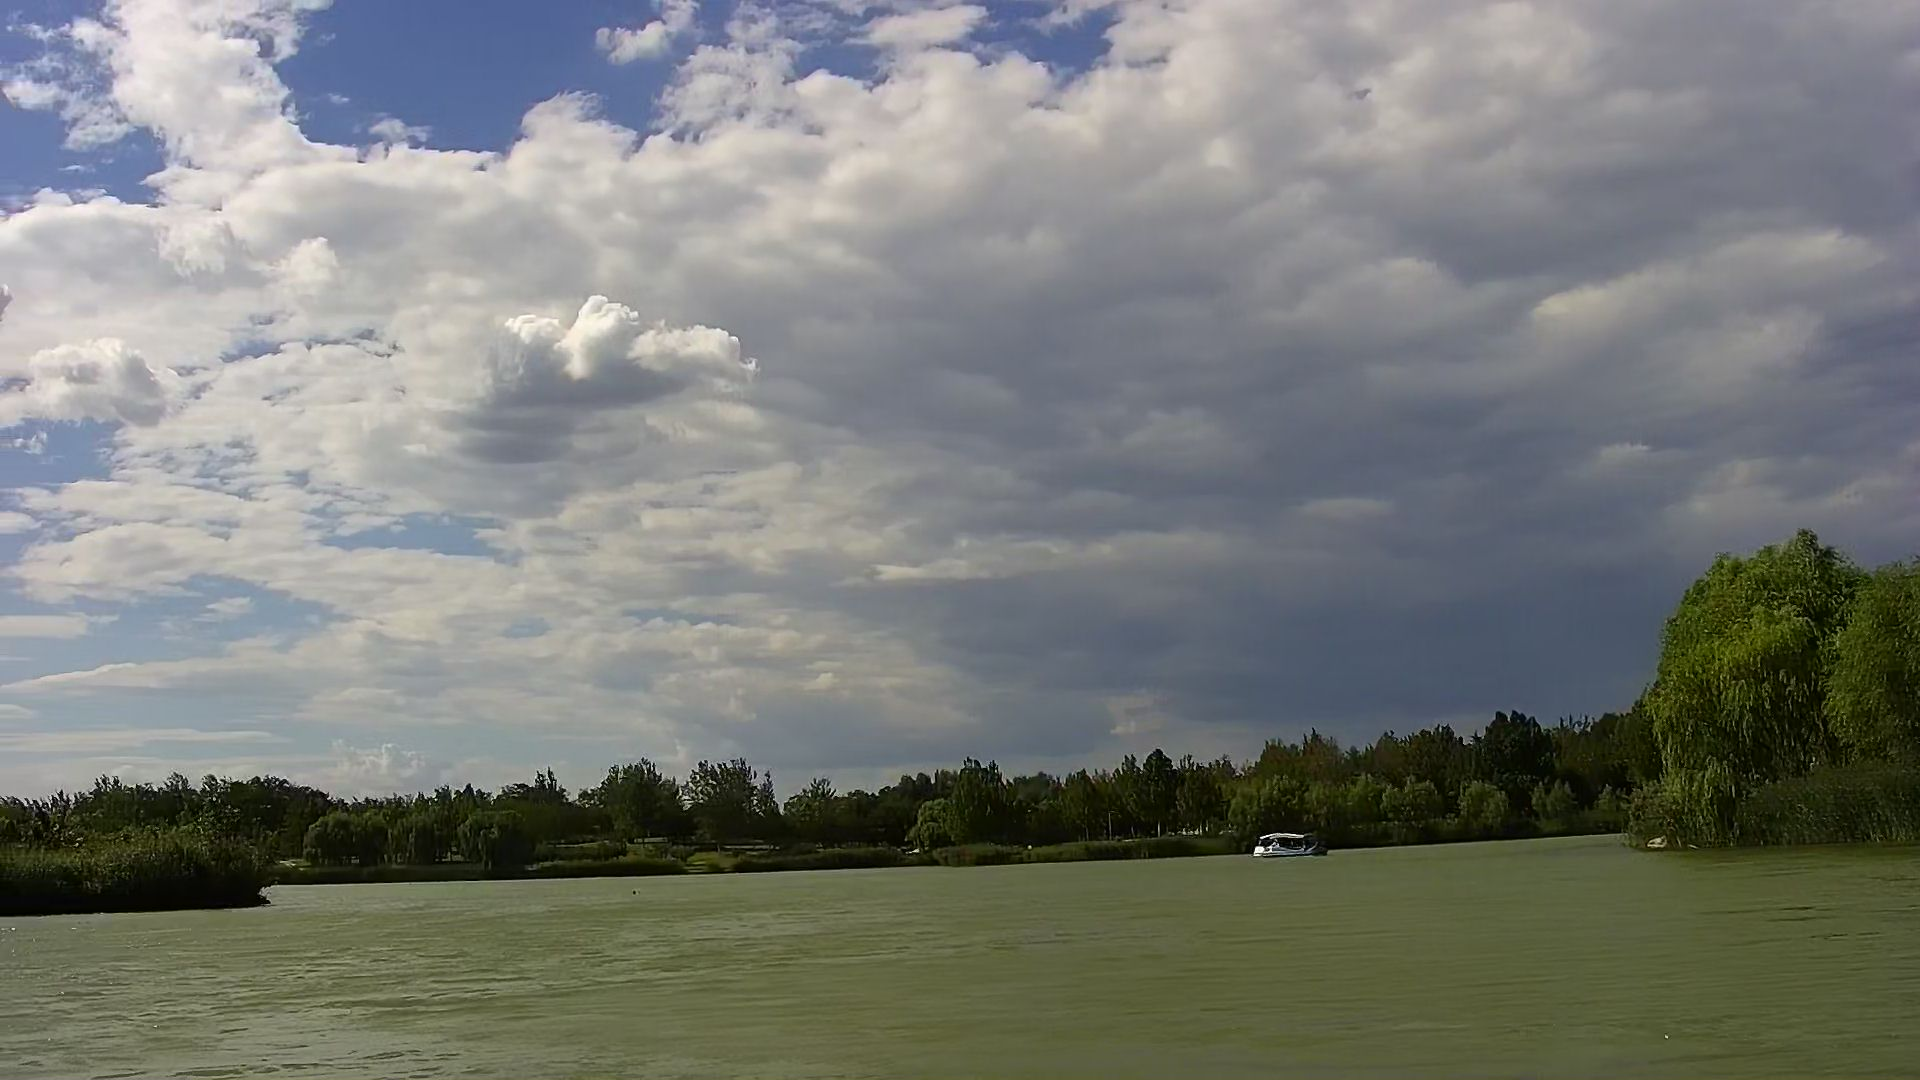boat: (1249, 827, 1321, 858)
rock: (1648, 829, 1675, 851)
